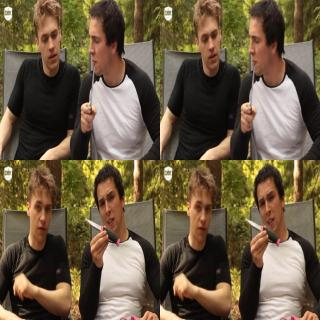knife: (242, 216, 282, 251), (82, 216, 121, 250), (80, 58, 97, 124), (240, 58, 257, 124)
